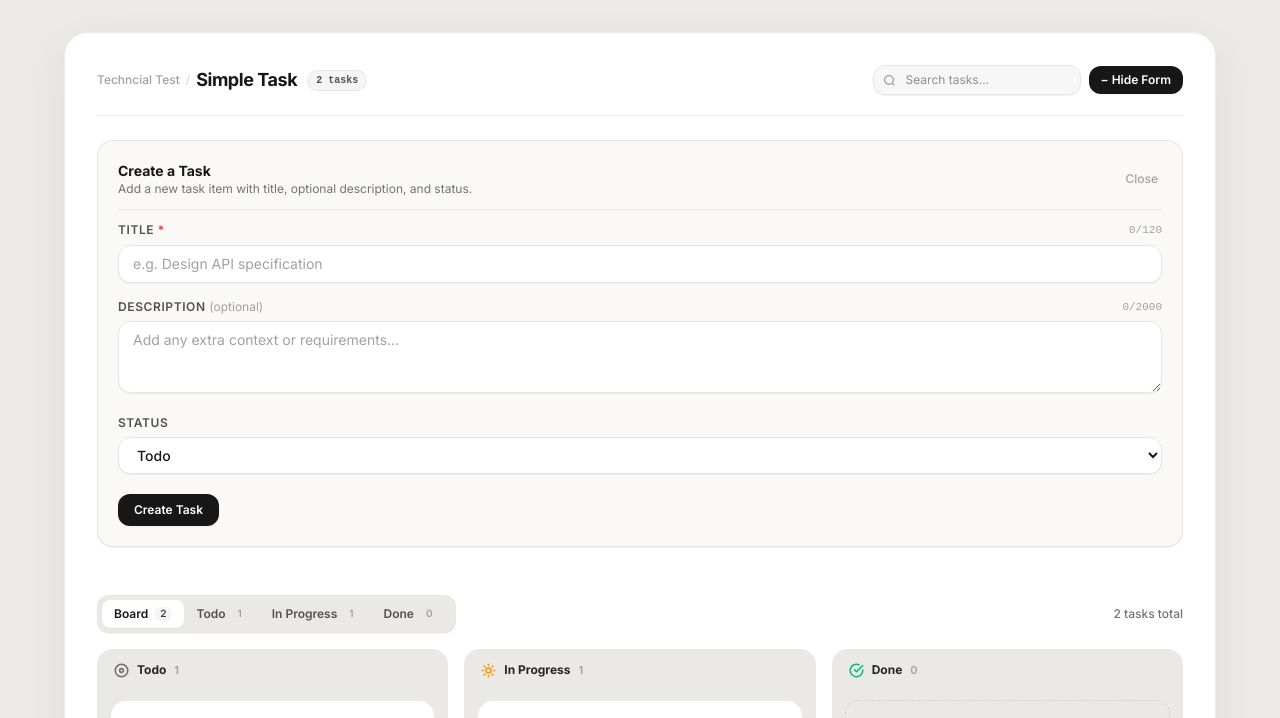
Test: Task Tracker App Component Tests (with Axios) › allows hiding and expanding the form when tasks exist
This screenshot has width=1280, height=718.
User clicks Hide Form
Click the button "− Hide Form". click: click(1136, 80)
box: x1=1088 y1=66 x2=1183 y2=94
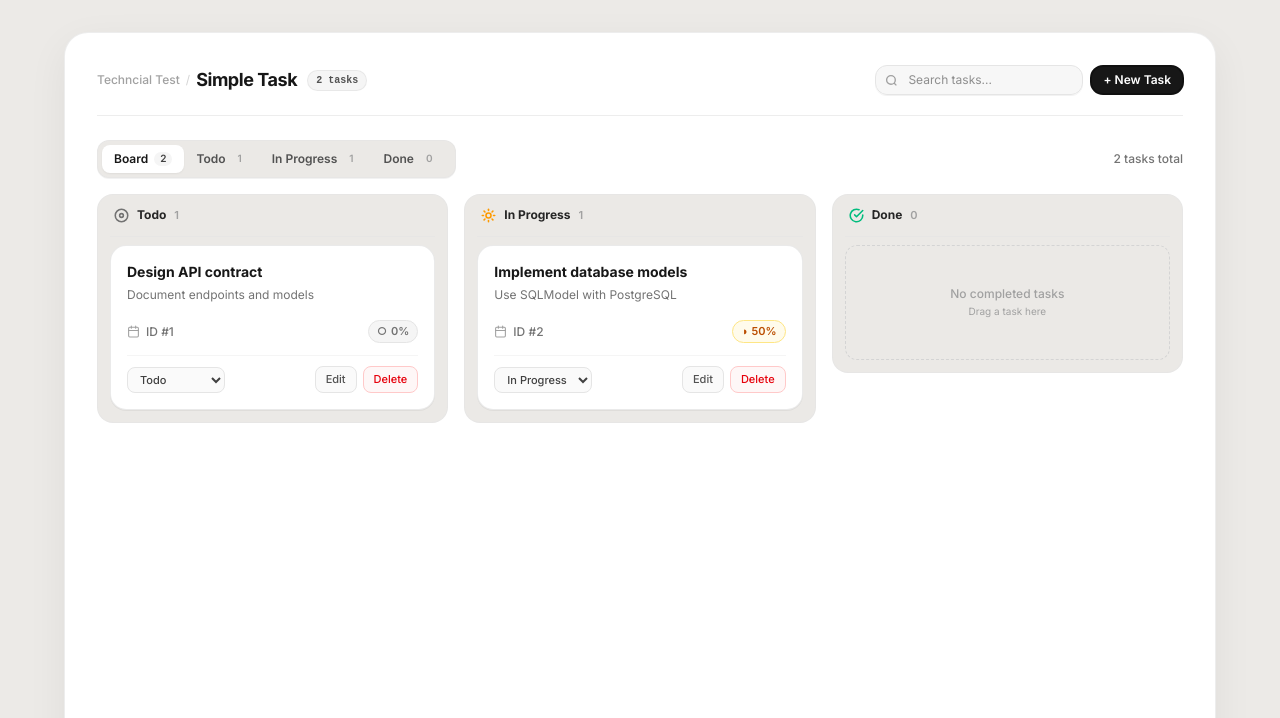
Expected: the button "+ New Task" is shown
User clicks New Task to reopen form
Click the button "+ New Task". click: click(1137, 80)
box: x1=1091 y1=66 x2=1183 y2=94
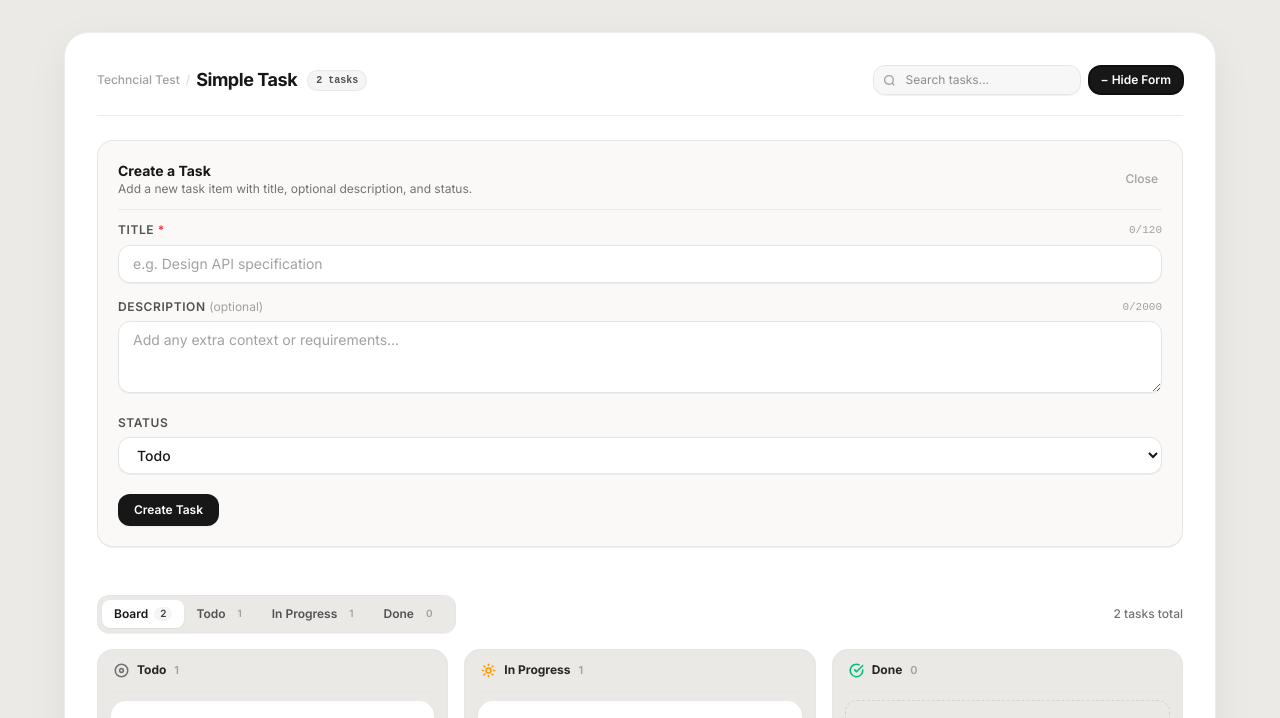
Expected: the button "− Hide Form" is shown, x1=1088 y1=66 x2=1183 y2=94
